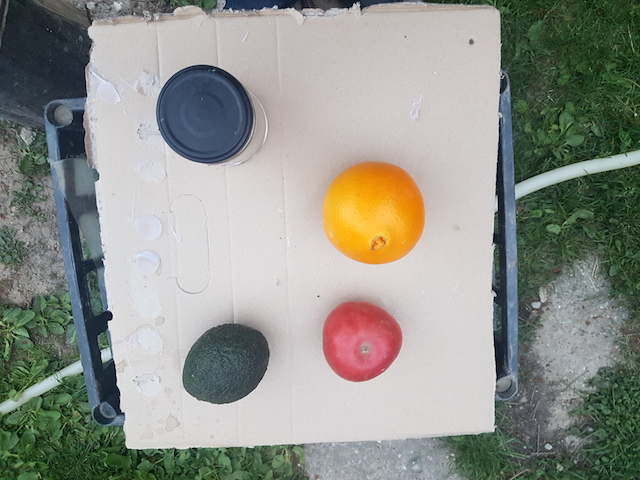apple: (318, 302, 403, 384)
avocado: (184, 324, 270, 408)
orange: (323, 160, 429, 263)
recipient: (149, 64, 253, 168)
